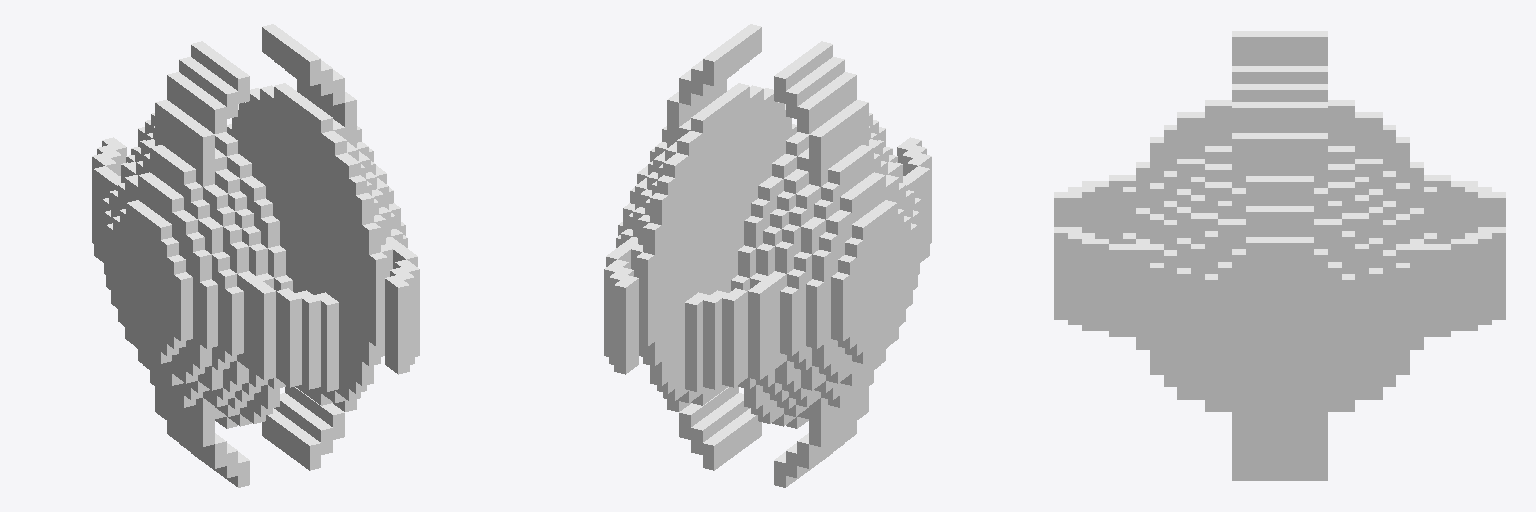
The model's file is bumperDecoration.obj.
3 renders of one model, left to right at view 1: azimuth 30°, elevation 25°; view 2: azimuth 150°, elevation 25°; view 3: azimuth 270°, elevation 25°, orthographic.
Size of the model in its own units: 19 by 33 by 33.